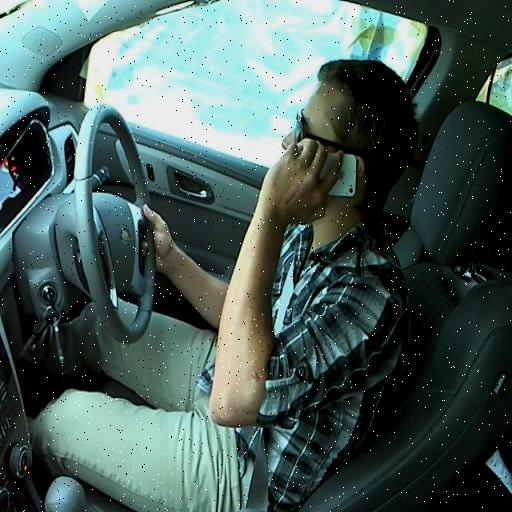talking_phone: (97, 152, 404, 433)
